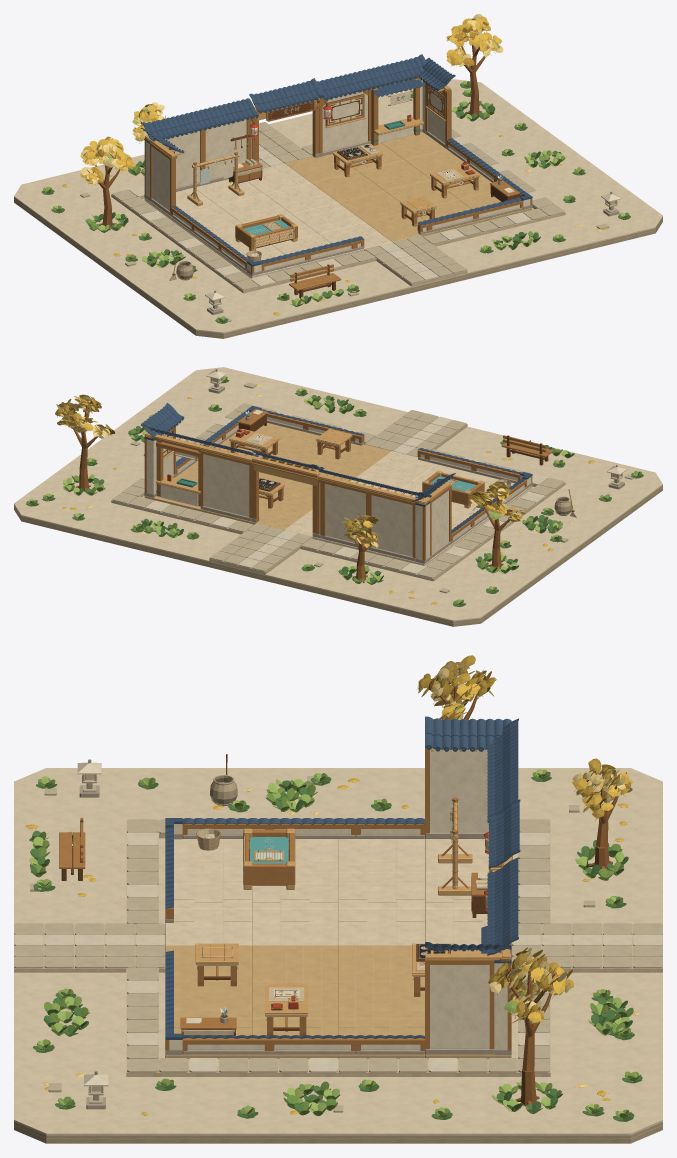
File: 首关_开张第一单_v04_20261111.glb
3 views of the same model, one above another, from view 1: azimuth 30°, elevation 25°; view 2: azimuth 150°, elevation 25°; view 3: azimuth 270°, elevation 25° (orthographic). The views are drawn at different scales.
Parts seen in each view (by area): view 1: exterior_ground_paper_layer_3, exterior_path_perimeter_slabs_paving, exterior_ground_paper_layer_0, exterior_path_front_entry_slabs_paving, wall_back_01_paper_panel, exterior_ground_paper_layer_2, exterior_path_perimeter_slabs_paving_light, wall_back_03_paper_panel, eave_portal_attached_two_courses_blue_paper_tiles, exterior_path_perimeter_continuous_paper_underlay, env_floor_courtyard_02_02_slab, env_floor_courtyard_02_01_slab (+39 smaller); view 2: exterior_ground_paper_layer_3, exterior_path_perimeter_slabs_paving, wall_back_03_paper_panel, exterior_ground_paper_layer_0, wall_back_00_paper_panel, exterior_path_rear_entry_slabs_paving, exterior_path_front_entry_slabs_paving, wall_back_01_paper_panel, exterior_ground_paper_layer_2, exterior_path_perimeter_slabs_paving_light, exterior_path_perimeter_continuous_paper_underlay, env_floor_courtyard_02_00_slab (+30 smaller); view 3: exterior_ground_paper_layer_3, exterior_path_perimeter_slabs_paving, exterior_path_front_entry_slabs_paving, wall_right_back_paper_panel, wall_left_back_paper_panel, exterior_path_rear_entry_slabs_paving, exterior_path_perimeter_slabs_paving_light, exterior_ground_paper_layer_0, env_floor_courtyard_01_02_slab, env_floor_courtyard_02_01_slab, env_floor_workshop_03_01_slab, env_floor_courtyard_02_02_slab (+46 smaller).
Part boxes in pixels (bbox=[...]): exterior_ground_paper_layer_3: bbox=[14, 79, 662, 333]; exterior_path_perimeter_slabs_paving: bbox=[112, 128, 564, 290]; exterior_ground_paper_layer_0: bbox=[14, 200, 662, 338]; exterior_path_front_entry_slabs_paving: bbox=[365, 235, 466, 283]; wall_back_01_paper_panel: bbox=[205, 119, 246, 179]; exterior_ground_paper_layer_2: bbox=[14, 198, 662, 335]; exterior_path_perimeter_slabs_paving_light: bbox=[129, 136, 544, 286]; wall_back_03_paper_panel: bbox=[322, 92, 367, 151]; eave_portal_attached_two_courses_blue_paper_tiles: bbox=[249, 78, 322, 111]; exterior_path_perimeter_continuous_paper_underlay: bbox=[111, 155, 565, 293]; env_floor_courtyard_02_02_slab: bbox=[265, 183, 337, 213]; env_floor_courtyard_02_01_slab: bbox=[292, 202, 364, 233]; exterior_ground_paper_layer_3: bbox=[14, 367, 662, 621]; exterior_path_perimeter_slabs_paving: bbox=[112, 403, 564, 578]; wall_back_03_paper_panel: bbox=[203, 454, 249, 516]; exterior_ground_paper_layer_0: bbox=[14, 488, 662, 626]; wall_back_00_paper_panel: bbox=[372, 495, 412, 556]; exterior_path_rear_entry_slabs_paving: bbox=[210, 523, 311, 571]; exterior_path_front_entry_slabs_paving: bbox=[365, 410, 466, 456]; wall_back_01_paper_panel: bbox=[325, 484, 365, 544]; exterior_ground_paper_layer_2: bbox=[14, 485, 662, 623]; exterior_path_perimeter_slabs_paving_light: bbox=[141, 411, 547, 574]; exterior_path_perimeter_continuous_paper_underlay: bbox=[111, 410, 565, 581]; env_floor_courtyard_02_00_slab: bbox=[366, 451, 436, 481]; exterior_ground_paper_layer_3: bbox=[14, 768, 662, 1135]; exterior_path_perimeter_slabs_paving: bbox=[127, 819, 549, 1072]; exterior_path_front_entry_slabs_paving: bbox=[14, 923, 164, 967]; wall_right_back_paper_panel: bbox=[429, 965, 489, 1048]; wall_left_back_paper_panel: bbox=[429, 749, 488, 832]; exterior_path_rear_entry_slabs_paving: bbox=[512, 923, 662, 967]; exterior_path_perimeter_slabs_paving_light: bbox=[127, 832, 549, 1072]; exterior_ground_paper_layer_0: bbox=[14, 1125, 662, 1143]; env_floor_courtyard_01_02_slab: bbox=[338, 872, 424, 908]; env_floor_courtyard_02_01_slab: bbox=[252, 909, 338, 945]; env_floor_workshop_03_01_slab: bbox=[252, 945, 338, 982]; env_floor_courtyard_02_02_slab: bbox=[338, 909, 424, 945].
Bounding box in the file's own units: 20 × 4.13 × 15.
Materials: 26 (23 with a texture image).
